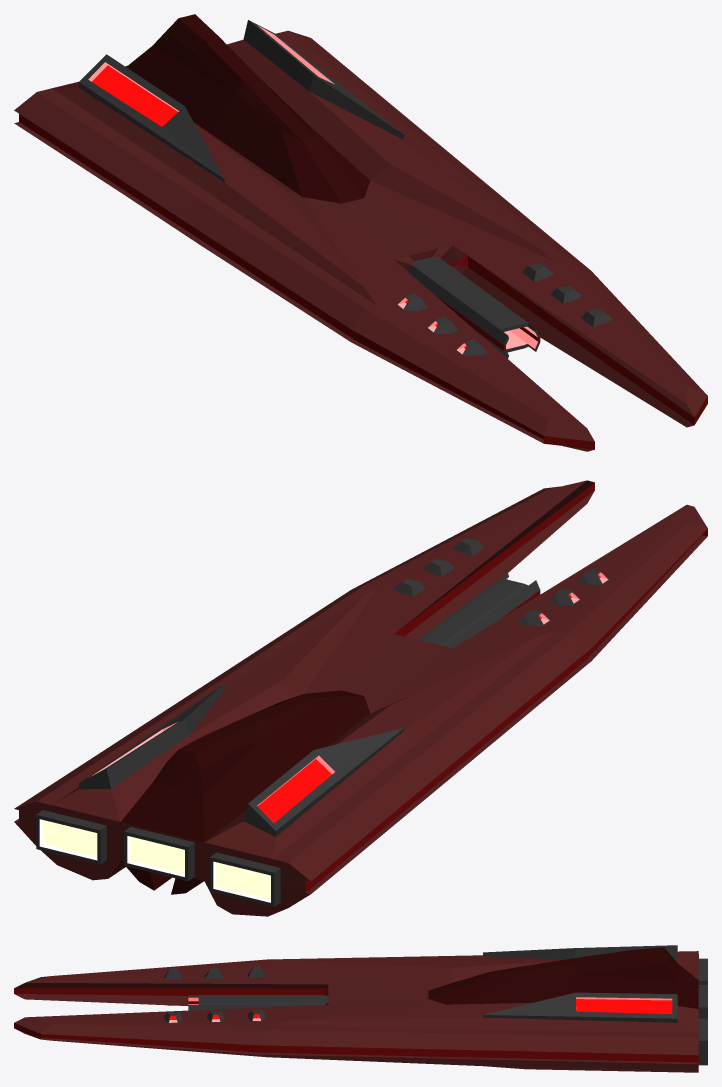
Rendered from Enemy_Destroyer.fbx.
The picture shows the model from 3 angles, top to bottom: view 1: azimuth 30°, elevation 25°; view 2: azimuth 150°, elevation 25°; view 3: azimuth 270°, elevation 25°; orthographic projection. The views are drawn at different scales.
Parts seen in each view (by area): view 1: pCube10; view 2: pCube10; view 3: pCube10.
Part boxes in pixels (x1,y1,x2,y2): pCube10: (14,14,707,451); pCube10: (14,480,707,916); pCube10: (14,945,707,1072).
Size of the model in its own units: 1498 by 617 by 4270.
